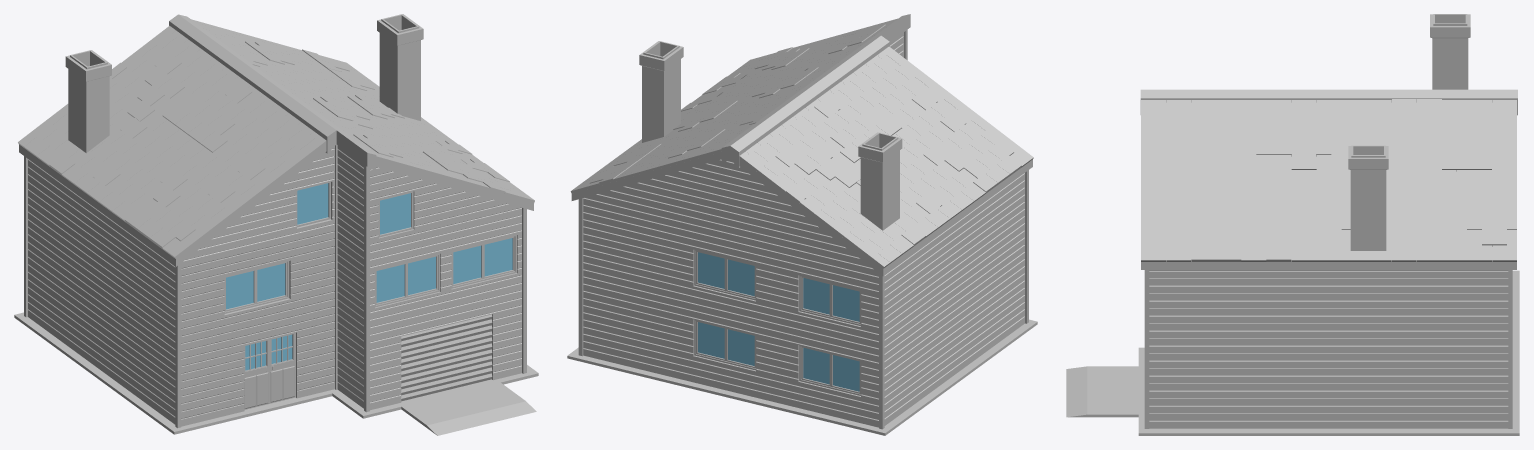
The model's file is House_011.gltf.
3 views of the same model, side by side, from view 1: azimuth 30°, elevation 25°; view 2: azimuth 150°, elevation 25°; view 3: azimuth 270°, elevation 25° (orthographic). The views are drawn at different scales.
Visible parts, largest first — view 1: Hous_011; view 2: Hous_011; view 3: Hous_011.
Part boxes in pixels (bbox=[...]): Hous_011: bbox=[14, 14, 538, 435]; Hous_011: bbox=[567, 14, 1037, 435]; Hous_011: bbox=[1066, 14, 1519, 435].
Bounding box in the file's own units: 12.68 × 9.96 × 14.95.
